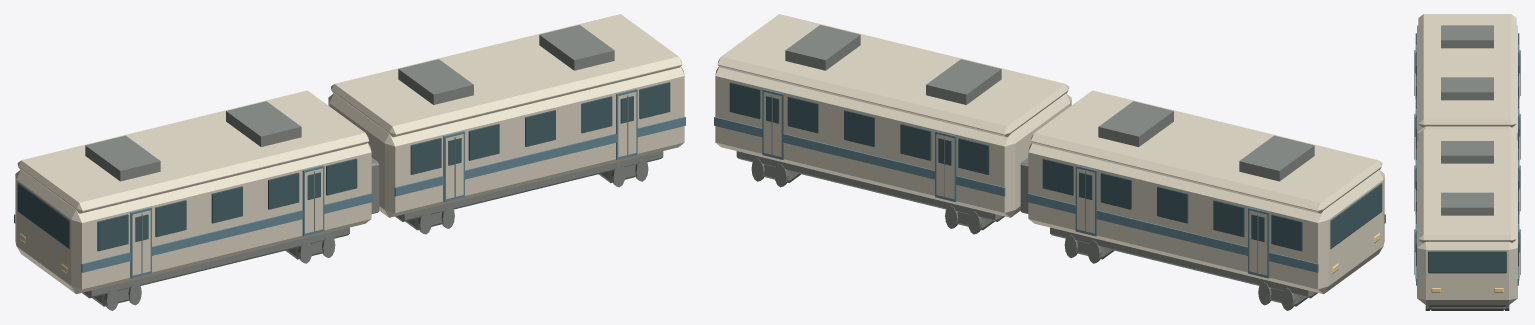
File: tpe_mrt_train_2car_tile14m.glb
3 renders of one model, left to right at view 1: azimuth 30°, elevation 25°; view 2: azimuth 150°, elevation 25°; view 3: azimuth 270°, elevation 25°, orthographic. The views are drawn at different scales.
Parts seen in each view (by area): view 1: tpe_mrt_train_2car_tile14m; view 2: tpe_mrt_train_2car_tile14m; view 3: tpe_mrt_train_2car_tile14m.
Boxes of the visible parts, x1,y1,x2,y2 form: tpe_mrt_train_2car_tile14m: (14, 14, 685, 310); tpe_mrt_train_2car_tile14m: (714, 14, 1385, 310); tpe_mrt_train_2car_tile14m: (1414, 14, 1520, 310).
Bounding box in the file's own units: 13.26 × 2.65 × 2.63.
